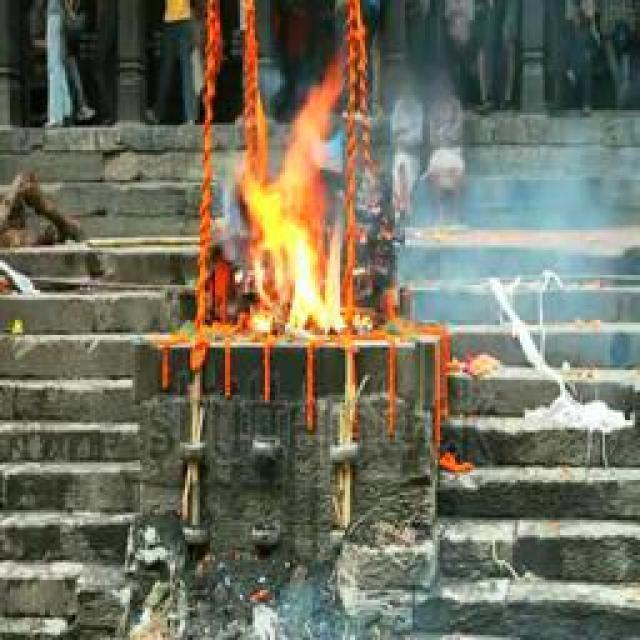Fire: (235, 104, 358, 335)
